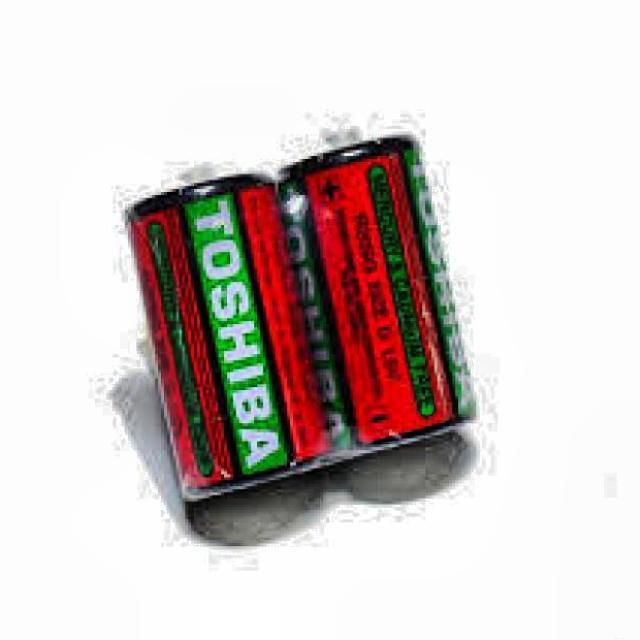battery: (125, 135, 470, 498)
